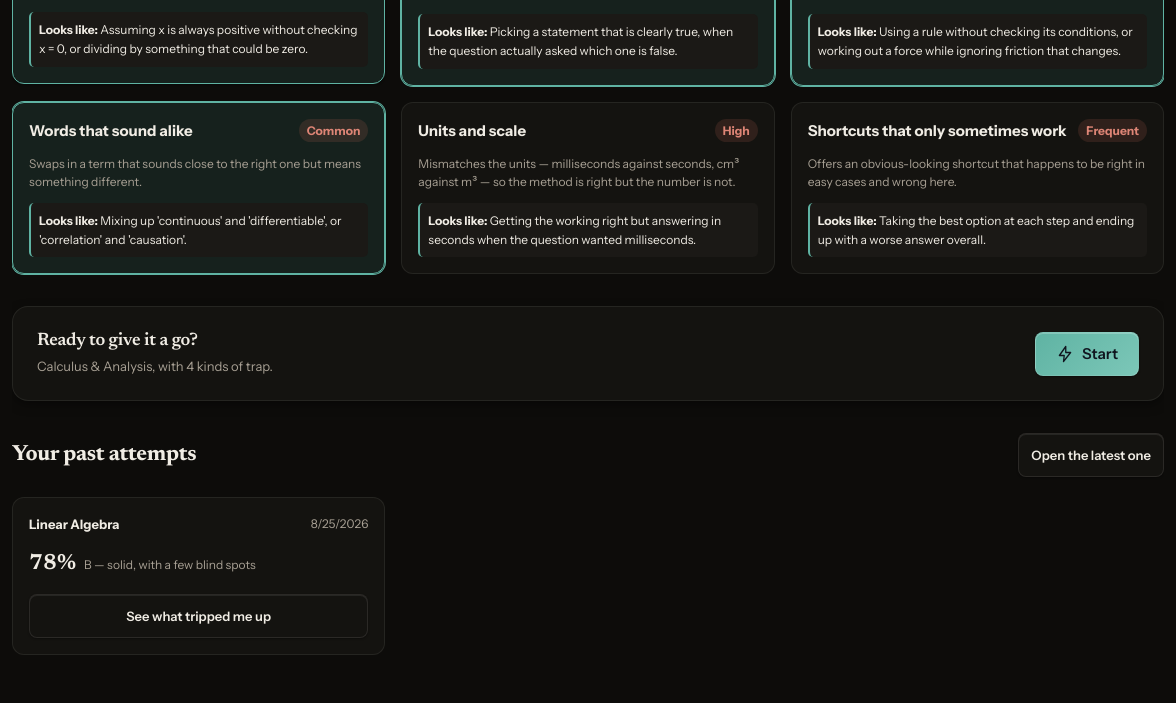
Test: PreMortemHubView › displays past attempts and opens a report
(page scrolled)
Check: the heading "Your past attempts" is shown, box top-left (12, 443), bottom-right (196, 468)
Check: the text "Linear Algebra" is shown, box top-left (29, 514), bottom-right (120, 535)
Click the button "See what tripped me up". click: (199, 616)
box: top-left (29, 594), bottom-right (368, 638)
(page scrolled)
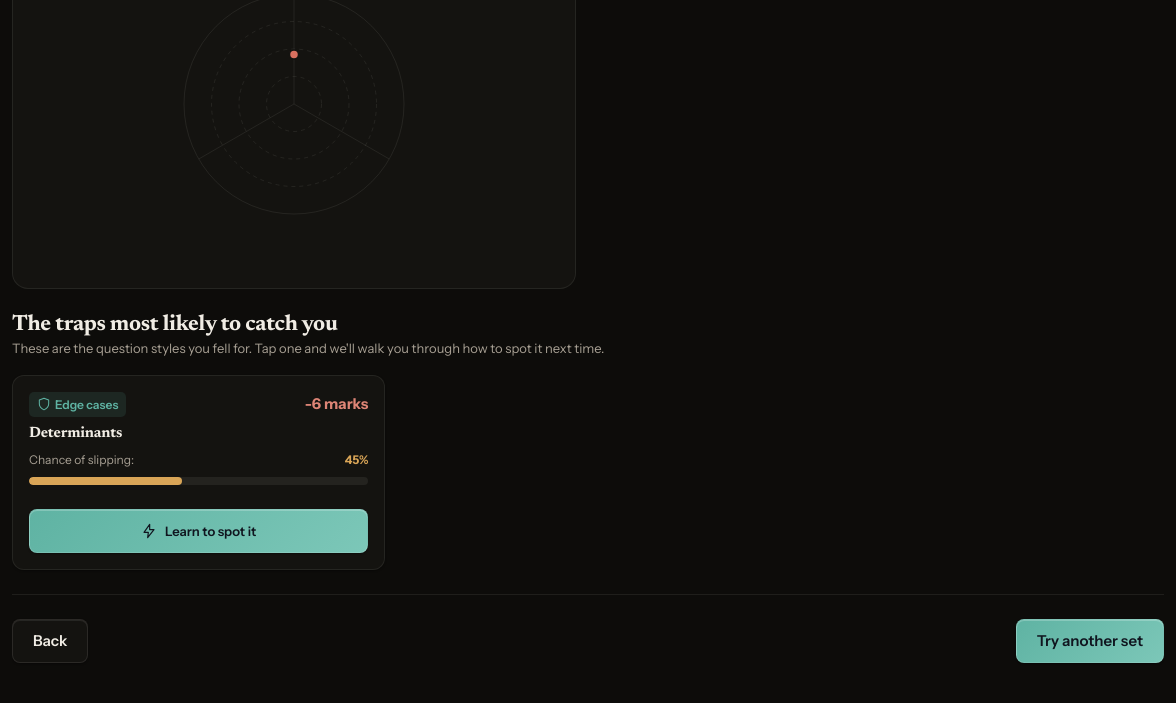
Check: the heading "The traps most likely to catch you" is shown, box top-left (12, 314), bottom-right (338, 336)
